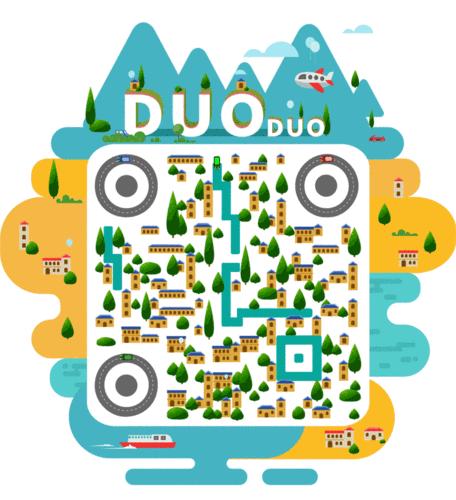QRCode: (94, 154, 367, 421)
